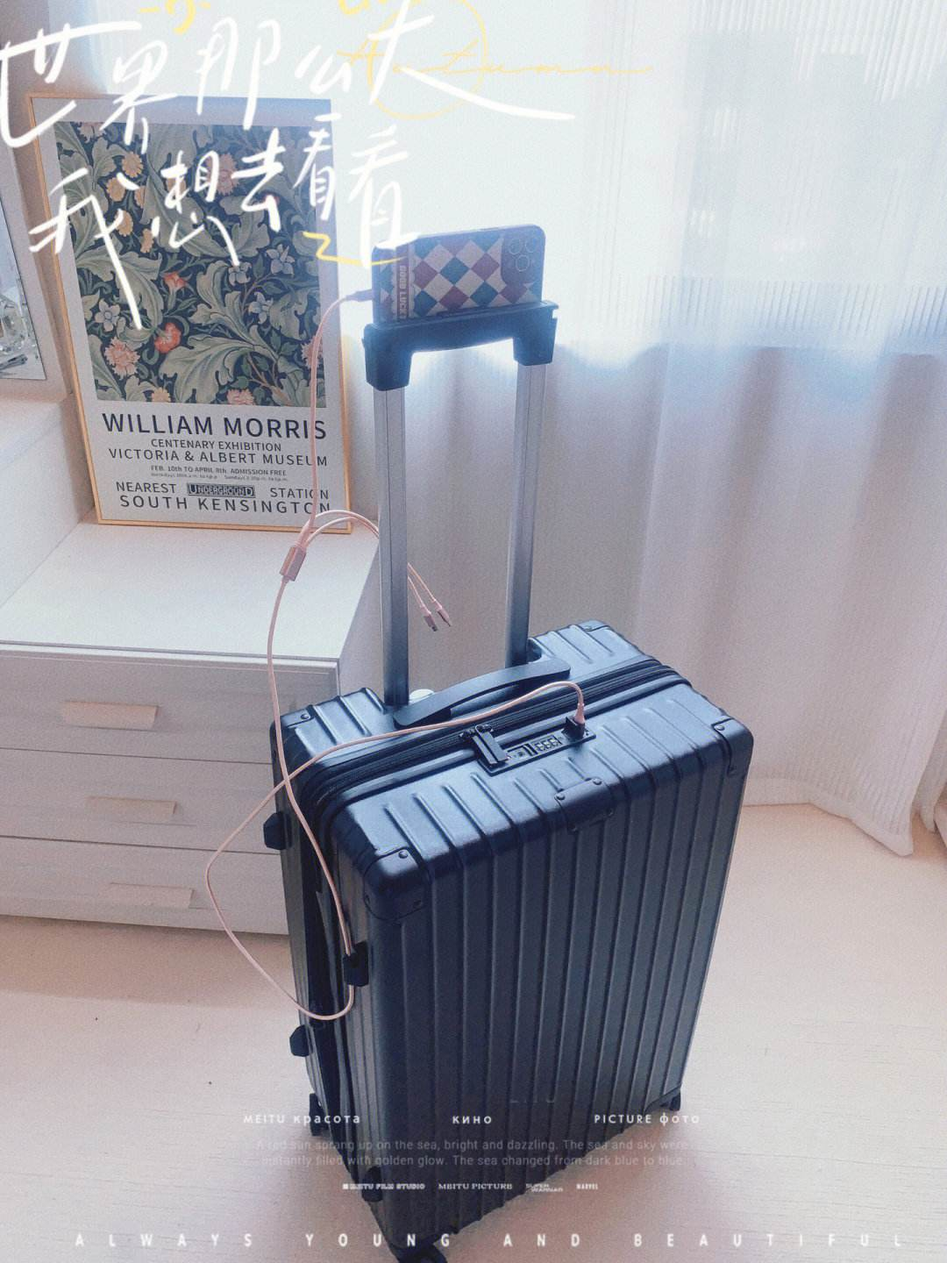box: (268, 617, 753, 1239)
handle: (392, 656, 570, 731)
lock: (458, 720, 596, 777)
